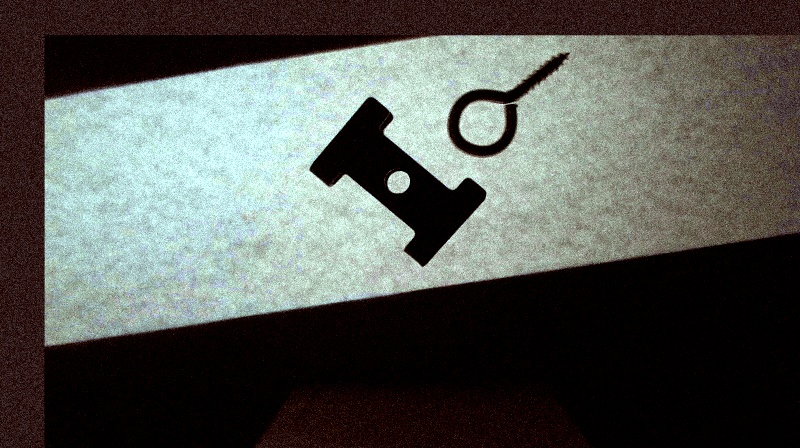O001: (443, 50, 574, 157)
O002: (299, 95, 486, 269)
